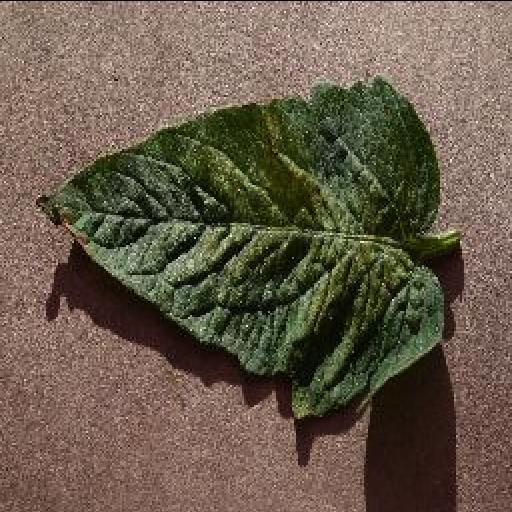disease_tomato: (30, 78, 444, 418)
